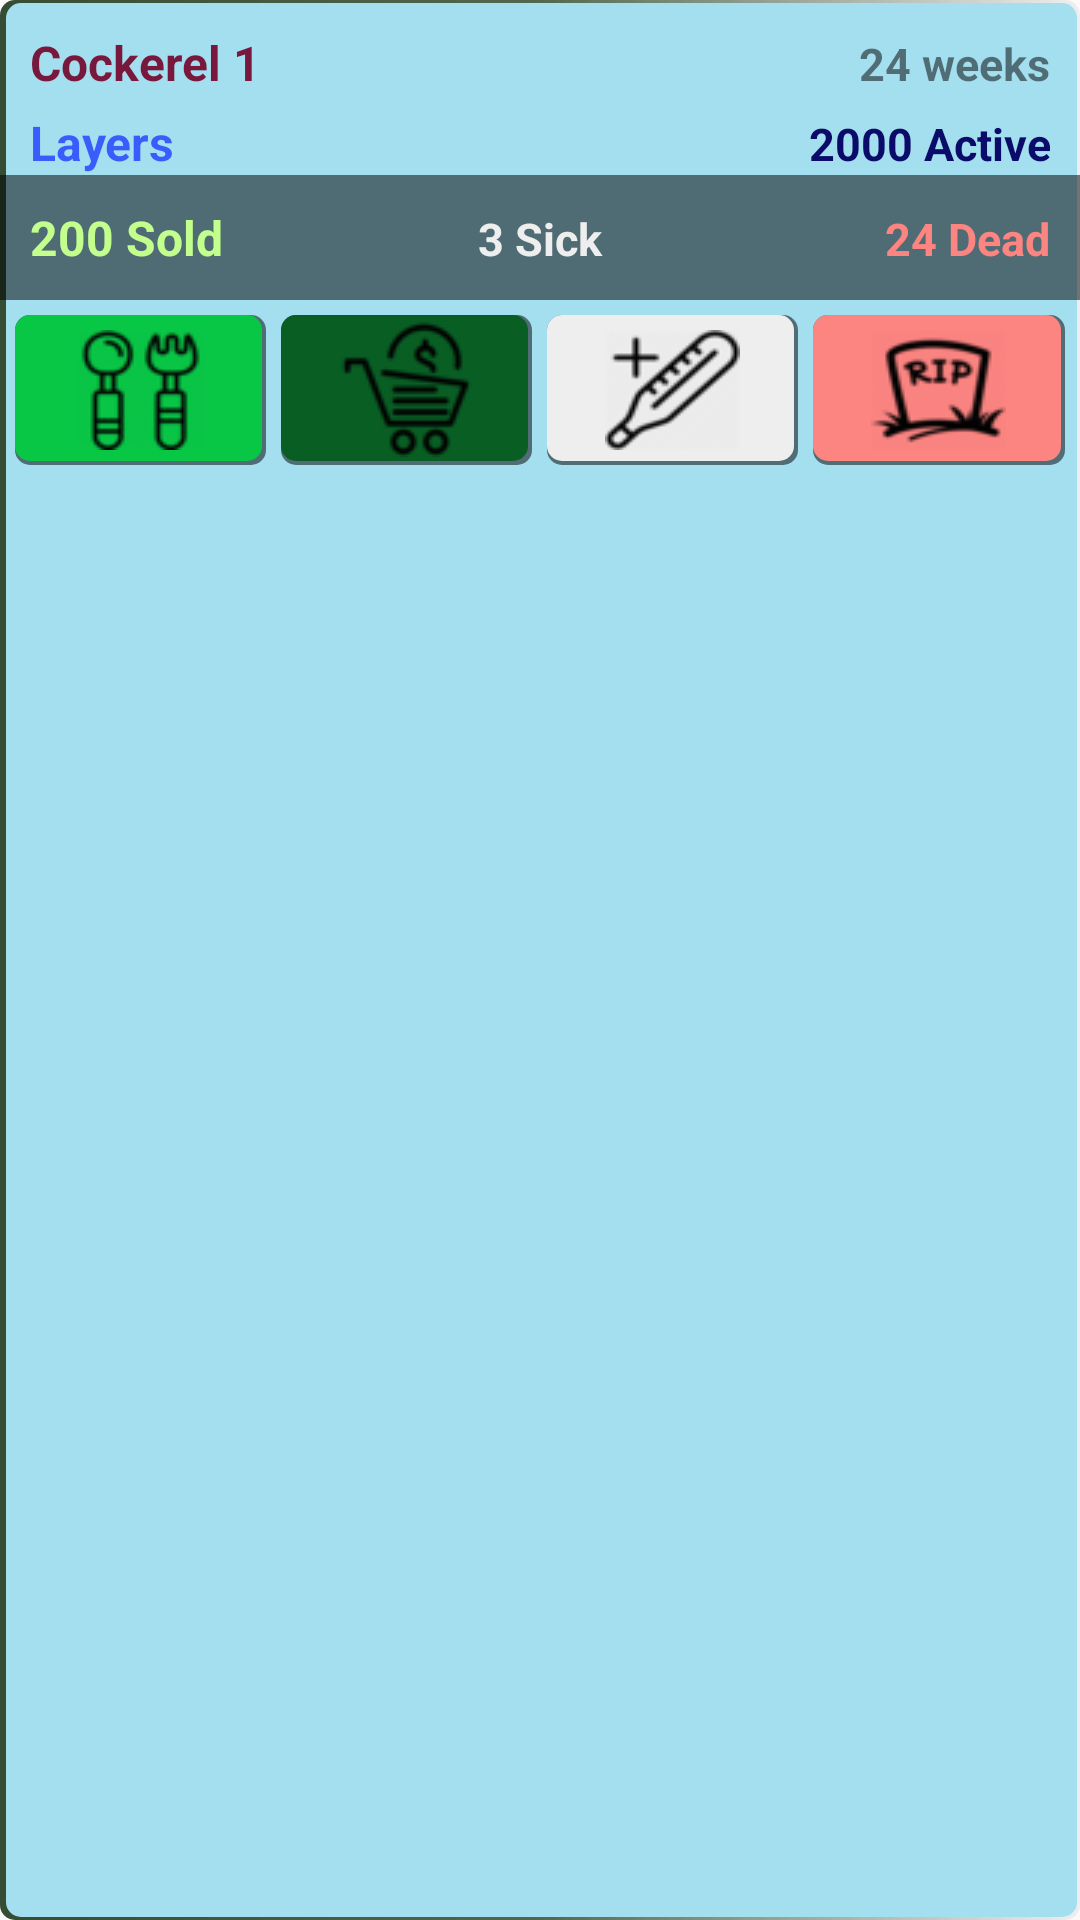

Locate icon controls on the screen. Image size 1080×1920, boxes as {"left": x1, "top": y1, "right": x2, "bottom": y2}.
death: {"left": 873, "top": 338, "right": 1006, "bottom": 443}
feed: {"left": 81, "top": 330, "right": 200, "bottom": 450}
sell: {"left": 344, "top": 324, "right": 469, "bottom": 455}
